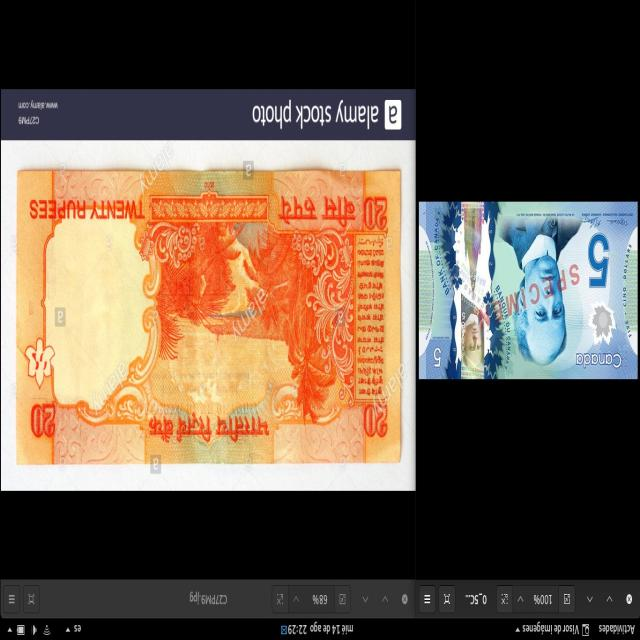20IndianRupees: (19, 175, 401, 462)
